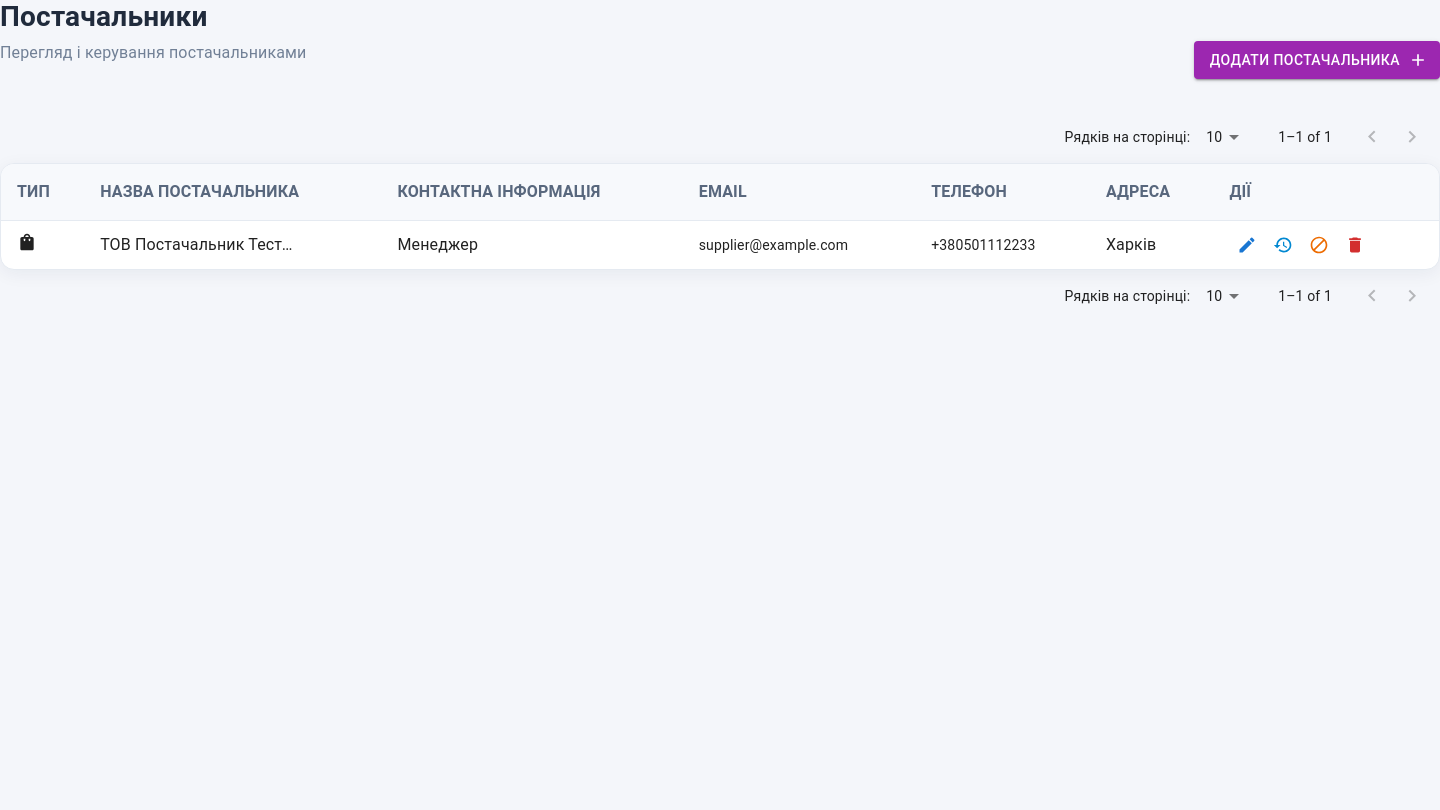
Test case: SupplierPage integration › updates a supplier and closes the edit dialog after success
expect the text "ТОВ Постачальник Тестовий" is shown: met, box [100, 233, 300, 257]
Click the button named "Редагувати".
click(1247, 245)  # box [1229, 227, 1265, 263]
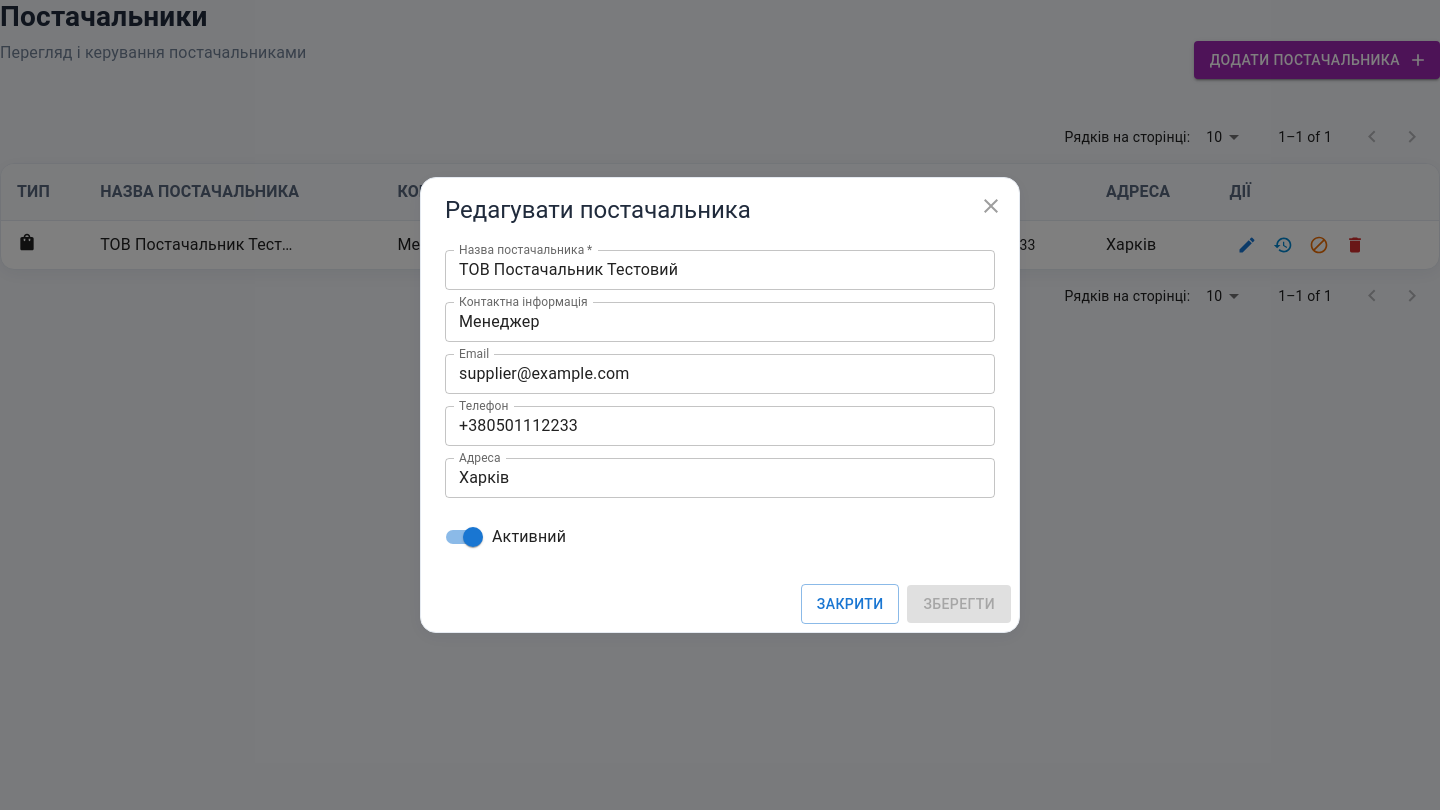
Replace the text in the field labelled "Назва постачальника" with "ТОВ Оновлений постачальник" at (720, 270), box [445, 250, 995, 290]
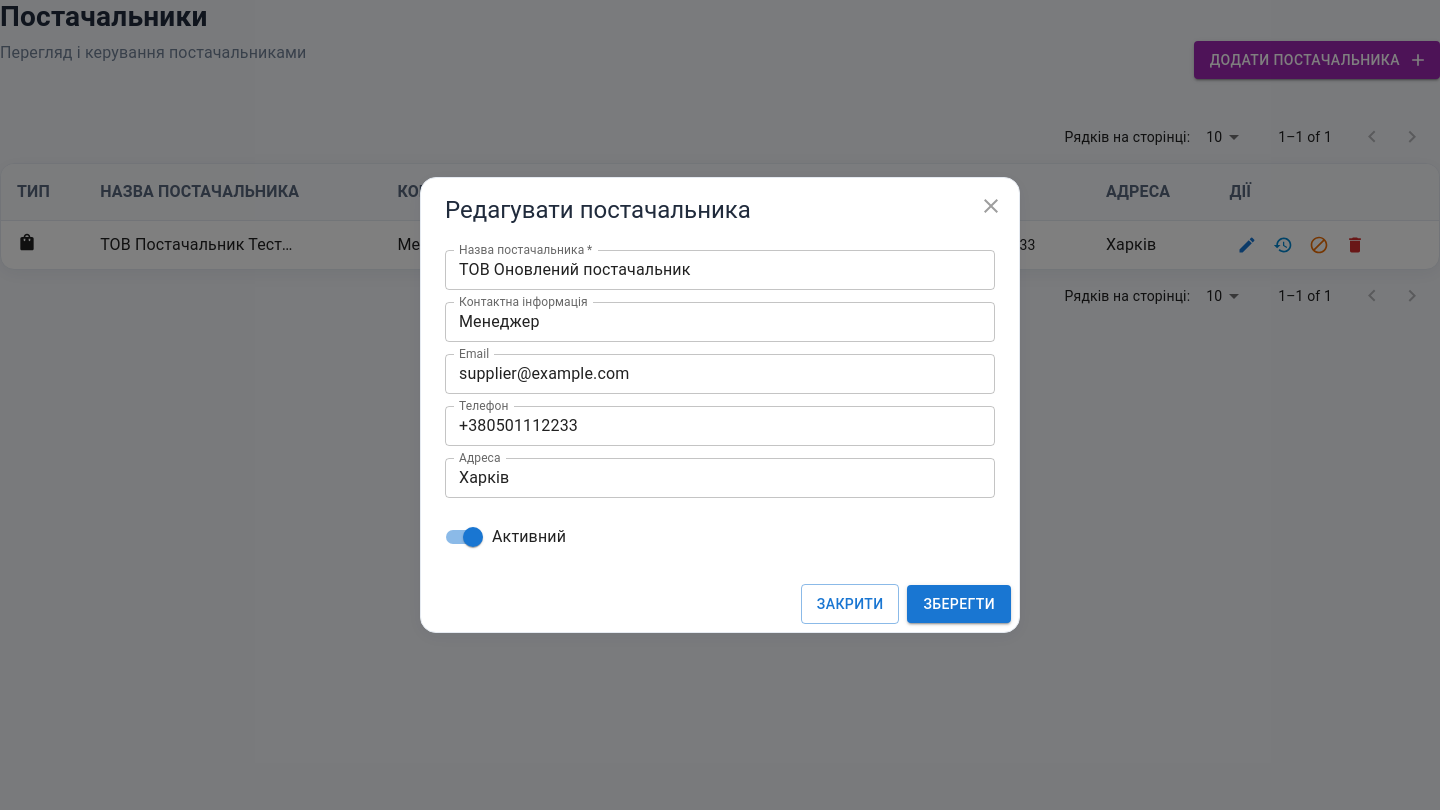
Click the button "Зберегти".
click(959, 604)  # box [908, 585, 1011, 623]
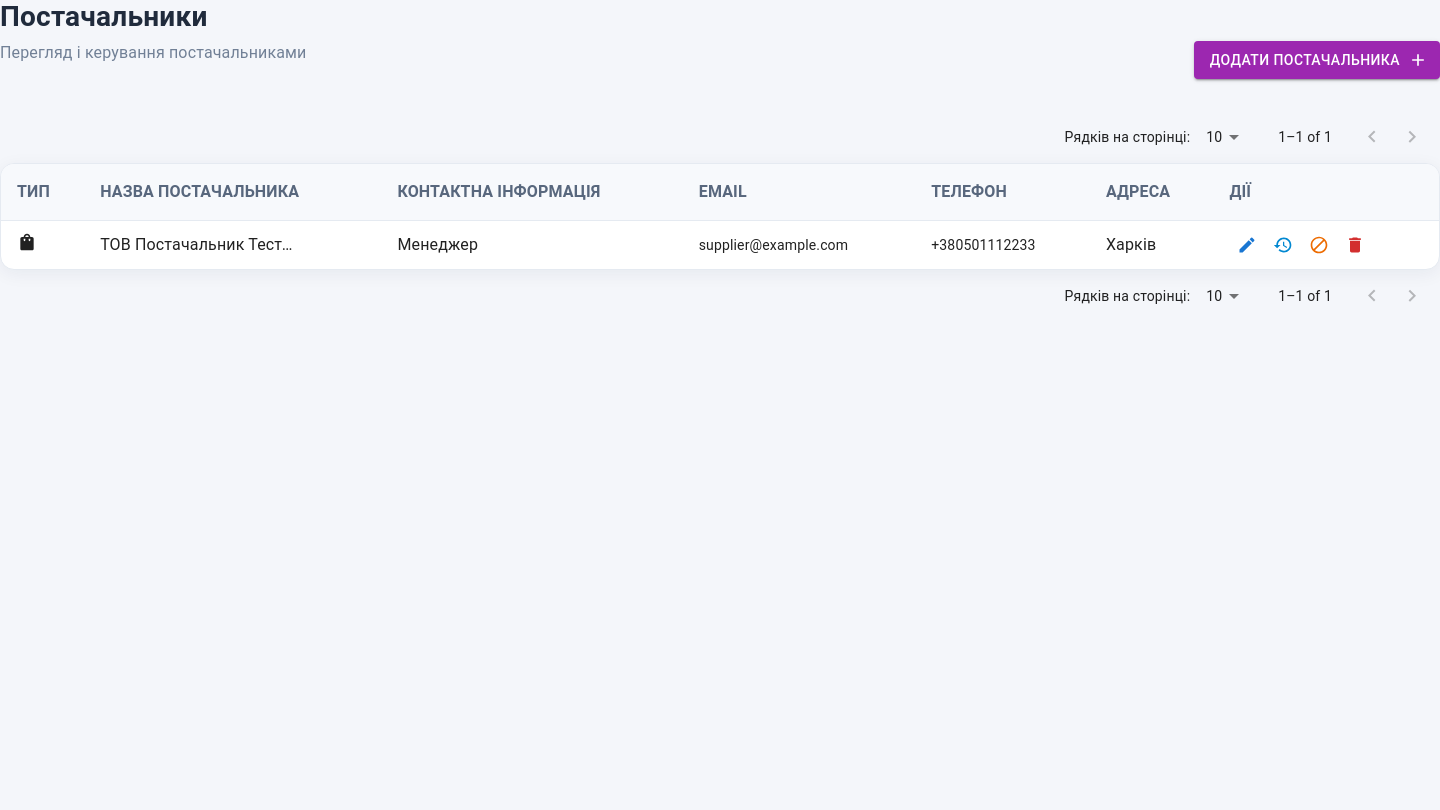
expect the dialog is gone: met
